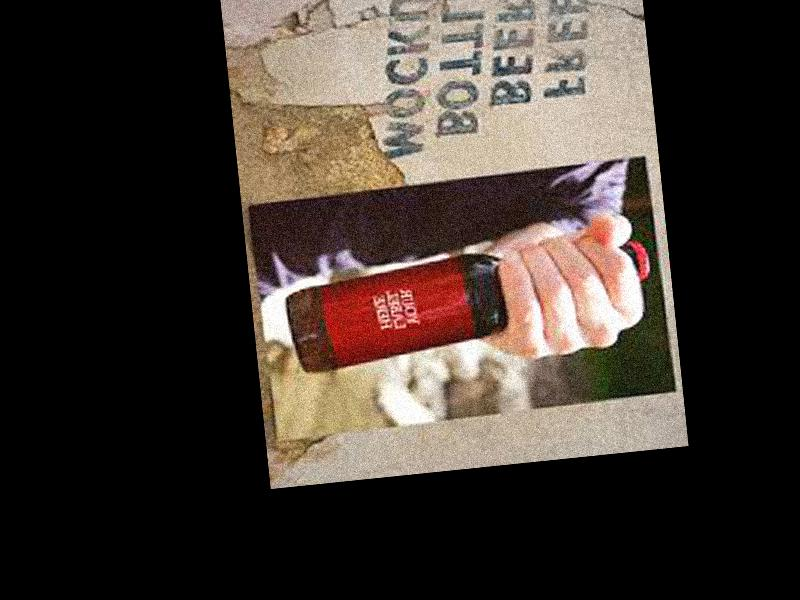Beer: (283, 239, 656, 375)
